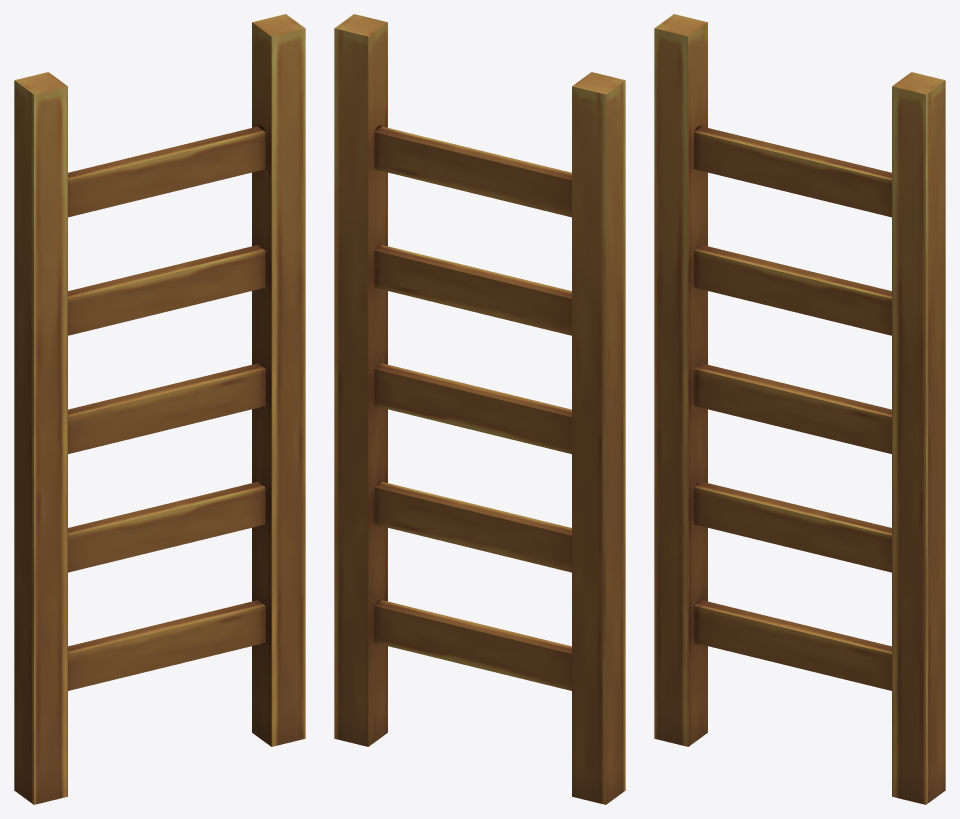
Rendered from ladder_HD.fbx.
3 renders of one model, left to right at view 1: azimuth 30°, elevation 25°; view 2: azimuth 150°, elevation 25°; view 3: azimuth 330°, elevation 25°, orthographic.
Parts seen in each view (by area): view 1: ladder; view 2: ladder; view 3: ladder.
Part boxes in pixels (x1,y1,x2,y2): ladder: (14, 14, 305, 804); ladder: (334, 14, 625, 804); ladder: (654, 14, 945, 804).
Size of the model in its own units: 0.8 by 2 by 0.1.
